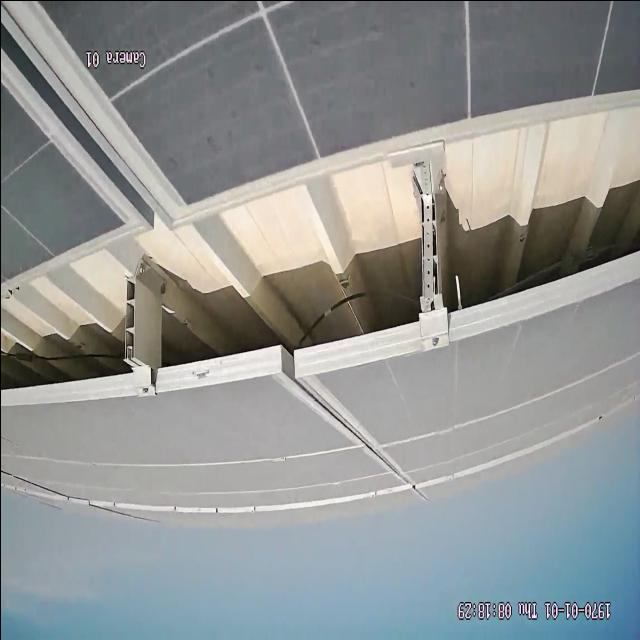interior panel: (2, 2, 169, 216), (277, 376, 407, 485)
outher panel: (1, 81, 639, 406)
